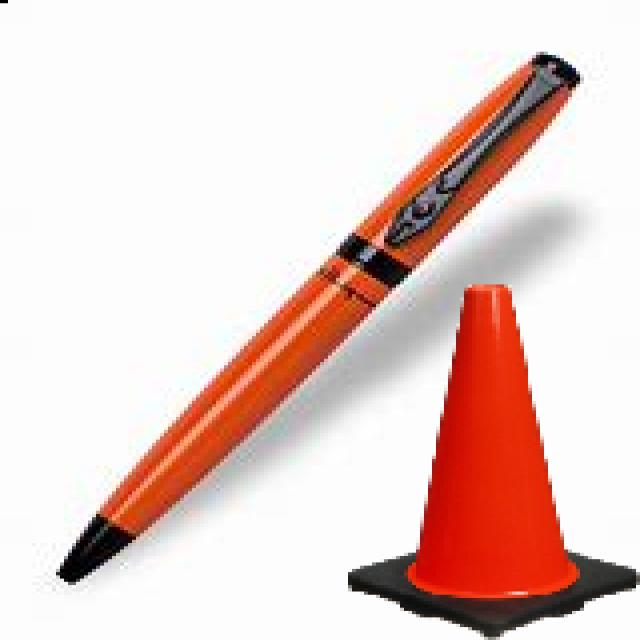traffic cone: (338, 276, 639, 640)
